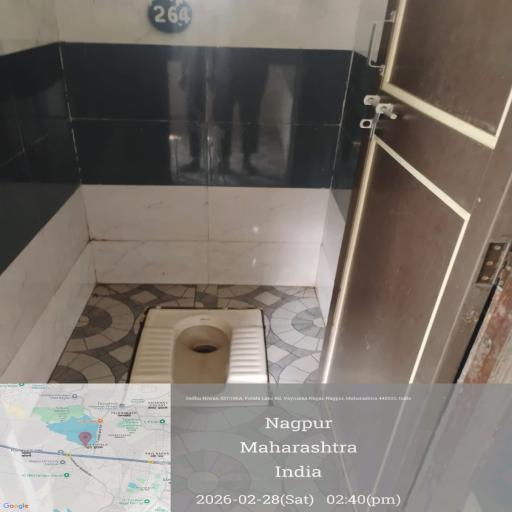clean_floor: (0, 0, 379, 253), (0, 256, 361, 388), (394, 57, 486, 379)
clean_indian: (140, 308, 270, 384)
